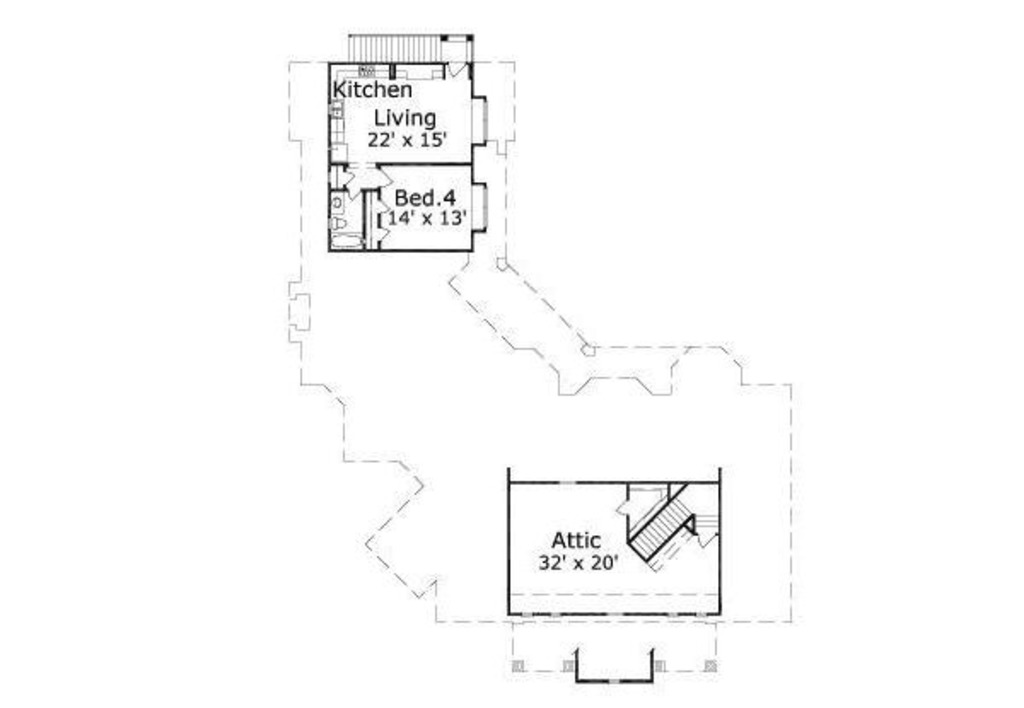door: (609, 487, 638, 521), (690, 528, 720, 555), (374, 169, 404, 193), (371, 189, 390, 223), (347, 182, 365, 209)
large_sink: (327, 210, 352, 229)
small_sink: (329, 191, 345, 212)
stairs: (341, 27, 488, 58), (623, 497, 694, 561)
tub: (330, 228, 366, 255)
twin_sink: (321, 97, 352, 127)
